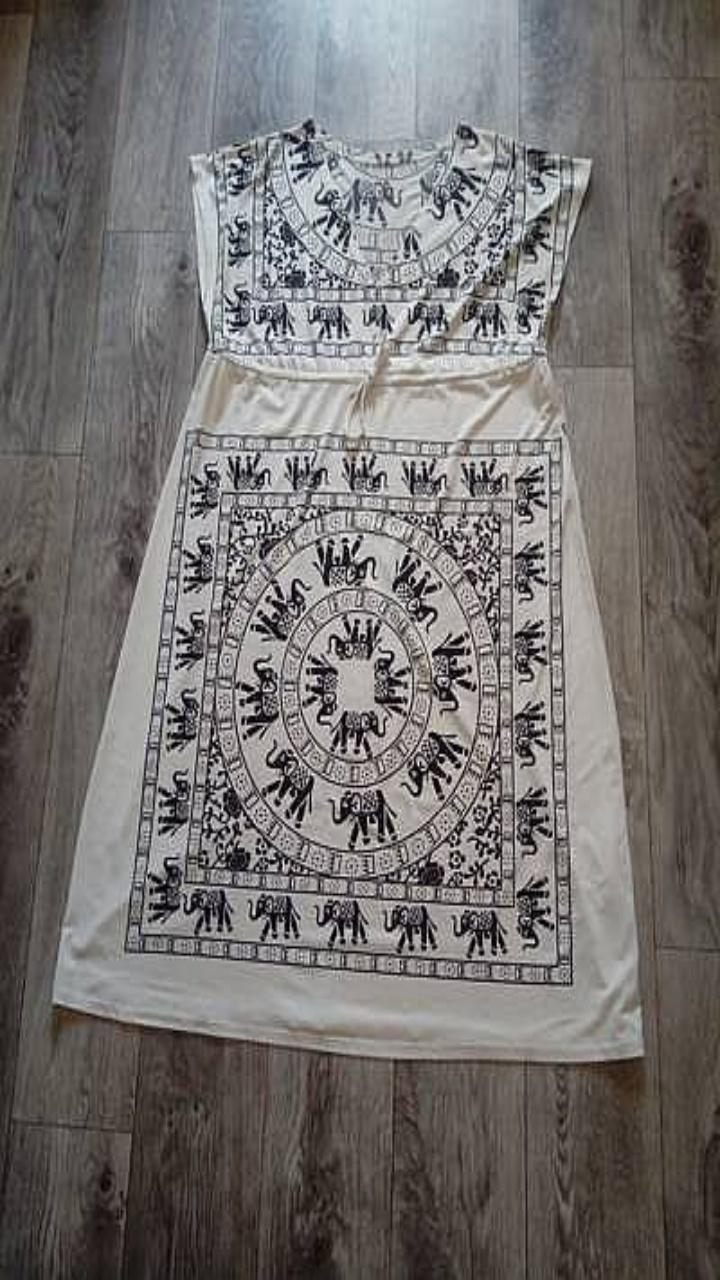Dresses: (53, 120, 642, 1060)
